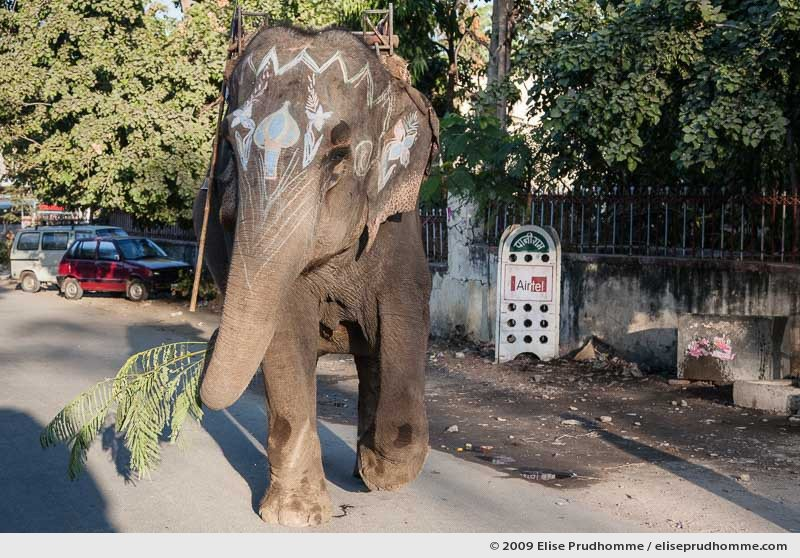Indian Elephant: (163, 23, 503, 524)
